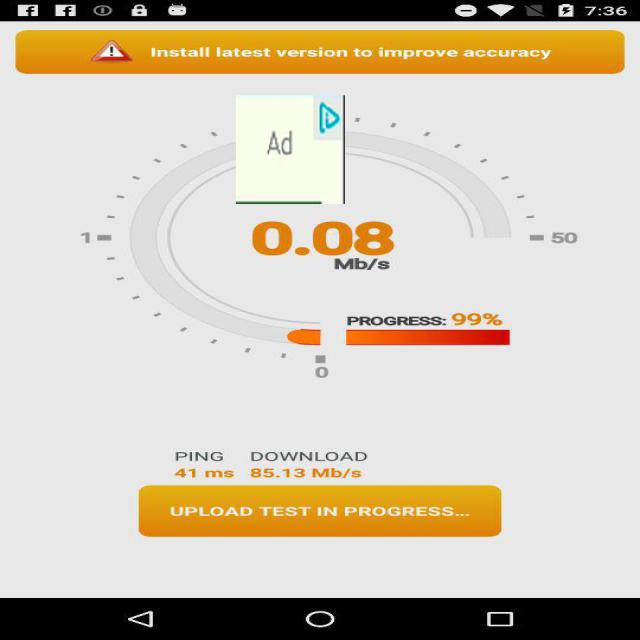sneaking: (236, 95, 345, 204)
